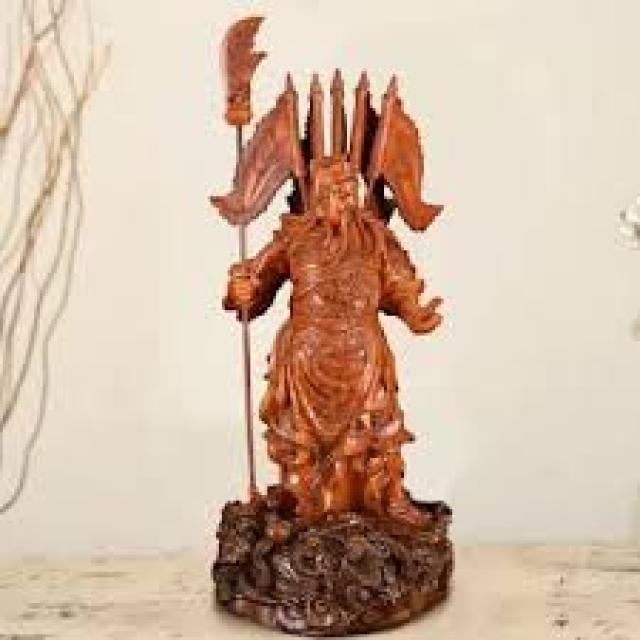Guan Yu: (218, 149, 436, 442)
